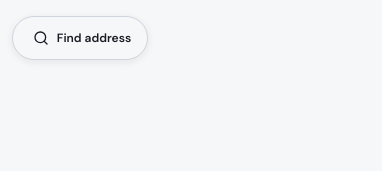
Scenario: does not let an older failure replace newer results
The width and height of the screenshot is (382, 171).
Replace the text in the search field named "Find an address or postal code" with "old" at (80, 38), box [12,16,148,60]
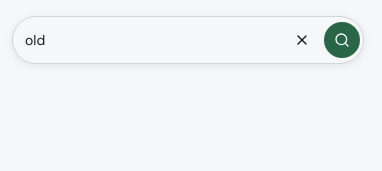
Click the button named "Search map addresses".
click(342, 40)  # box [324,22,360,58]
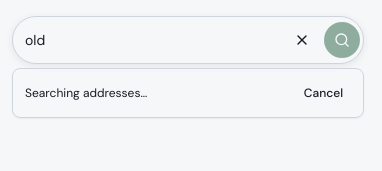
Replace the text in the search field named "Find an address or postal code" with "new" at (148, 40), box [16,22,280,58]
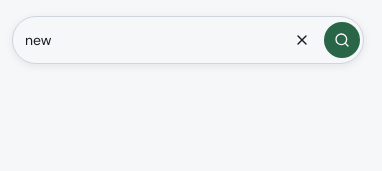
Click the button named "Search map addresses".
click(342, 40)  # box [324,22,360,58]
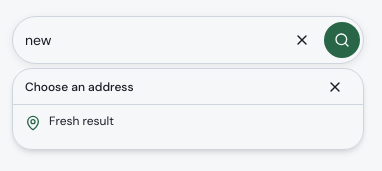
Expected: the message "Searching addresses… Cancel" is not shown
Now the button "Fresh result" is shown, box [13,105,363,149]
